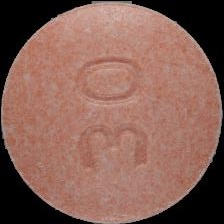49999-870: (0, 0, 224, 224)
